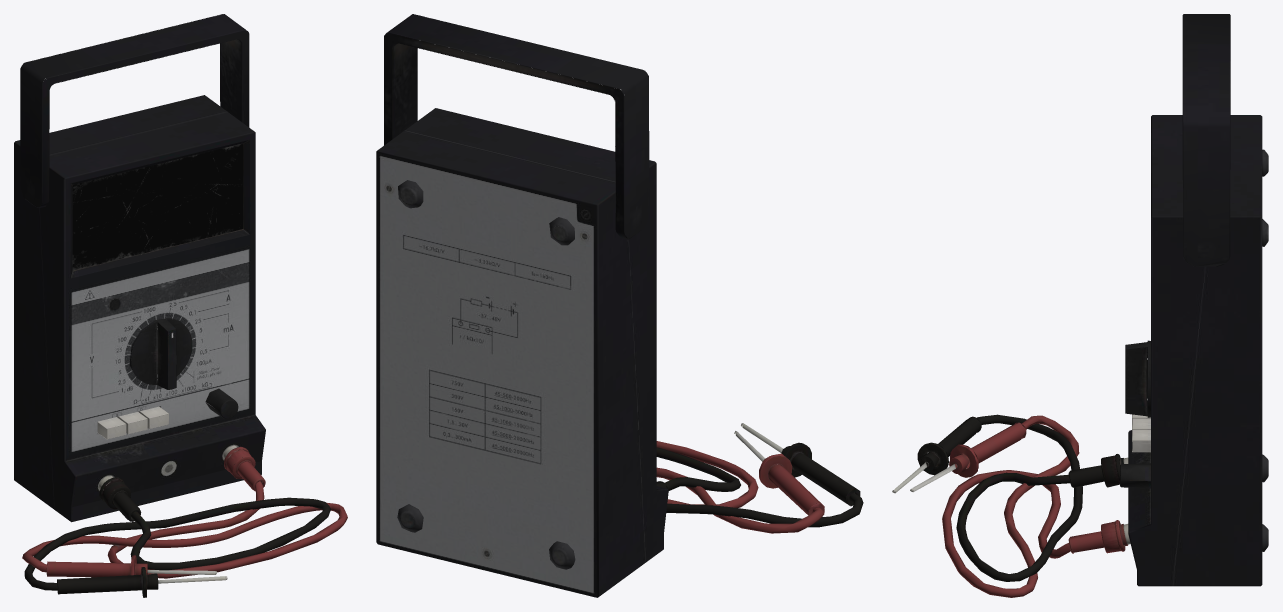
File: ph_multimeter.gltf
3 renders of one model, left to right at view 1: azimuth 30°, elevation 25°; view 2: azimuth 150°, elevation 25°; view 3: azimuth 270°, elevation 25°, orthographic. The views are drawn at different scales.
Parts seen in each view (by area): view 1: Body; view 2: Body; view 3: Body.
Boxes of the visible parts, x1,y1,x2,y2 form: Body: (14, 14, 347, 597); Body: (376, 14, 863, 597); Body: (892, 14, 1268, 597).
Size of the model in its own units: 0.2165 by 0.2786 by 0.2027.
2 materials, 2 textured.
